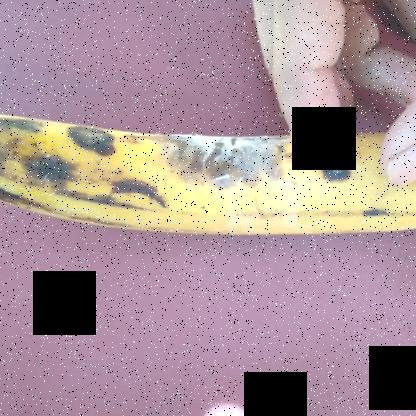ripe: (4, 92, 416, 254)
rotten: (162, 106, 304, 200)
